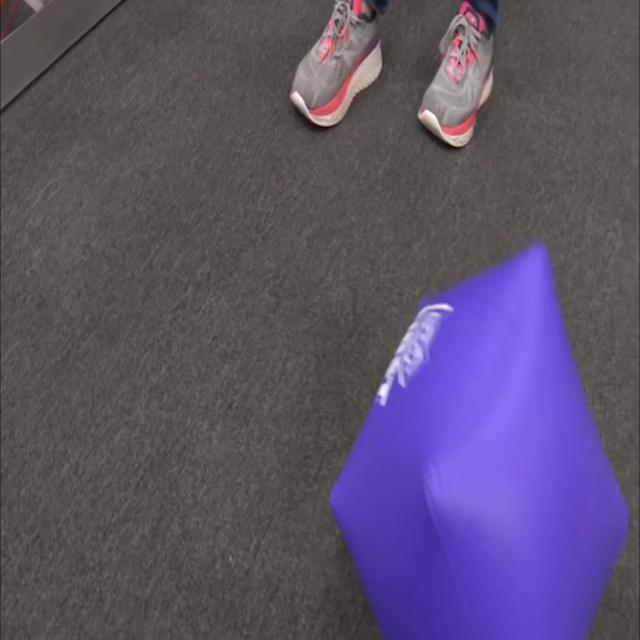frc_cube: (327, 246, 624, 640)
